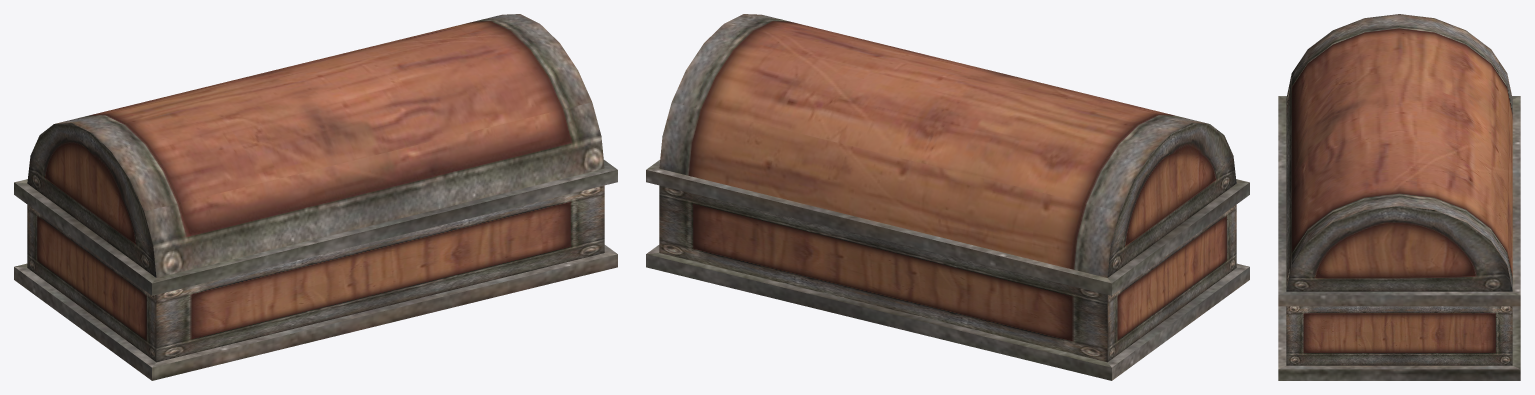
File: Treasure.fbx
The picture shows the model from 3 angles, left to right: view 1: azimuth 30°, elevation 25°; view 2: azimuth 150°, elevation 25°; view 3: azimuth 270°, elevation 25°; orthographic projection. The views are drawn at different scales.
Visible parts, largest first — view 1: pCylinder1; view 2: pCylinder1; view 3: pCylinder1.
Boxes of the visible parts, x1,y1,x2,y2 form: pCylinder1: (14,14,617,380); pCylinder1: (646,14,1249,380); pCylinder1: (1278,14,1520,380).
Bounding box in the file's own units: 291 × 117 × 150.
Materials: 1 (1 with a texture image).
